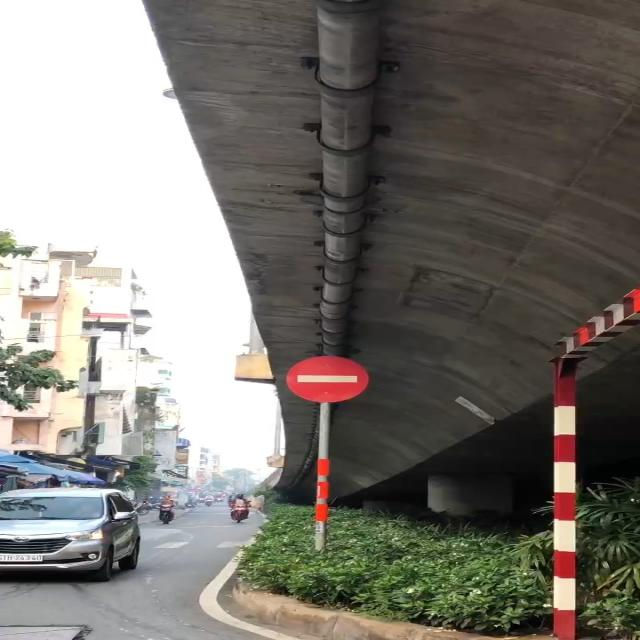Bien bao cam di nguoc chieu: (282, 354, 374, 406)
